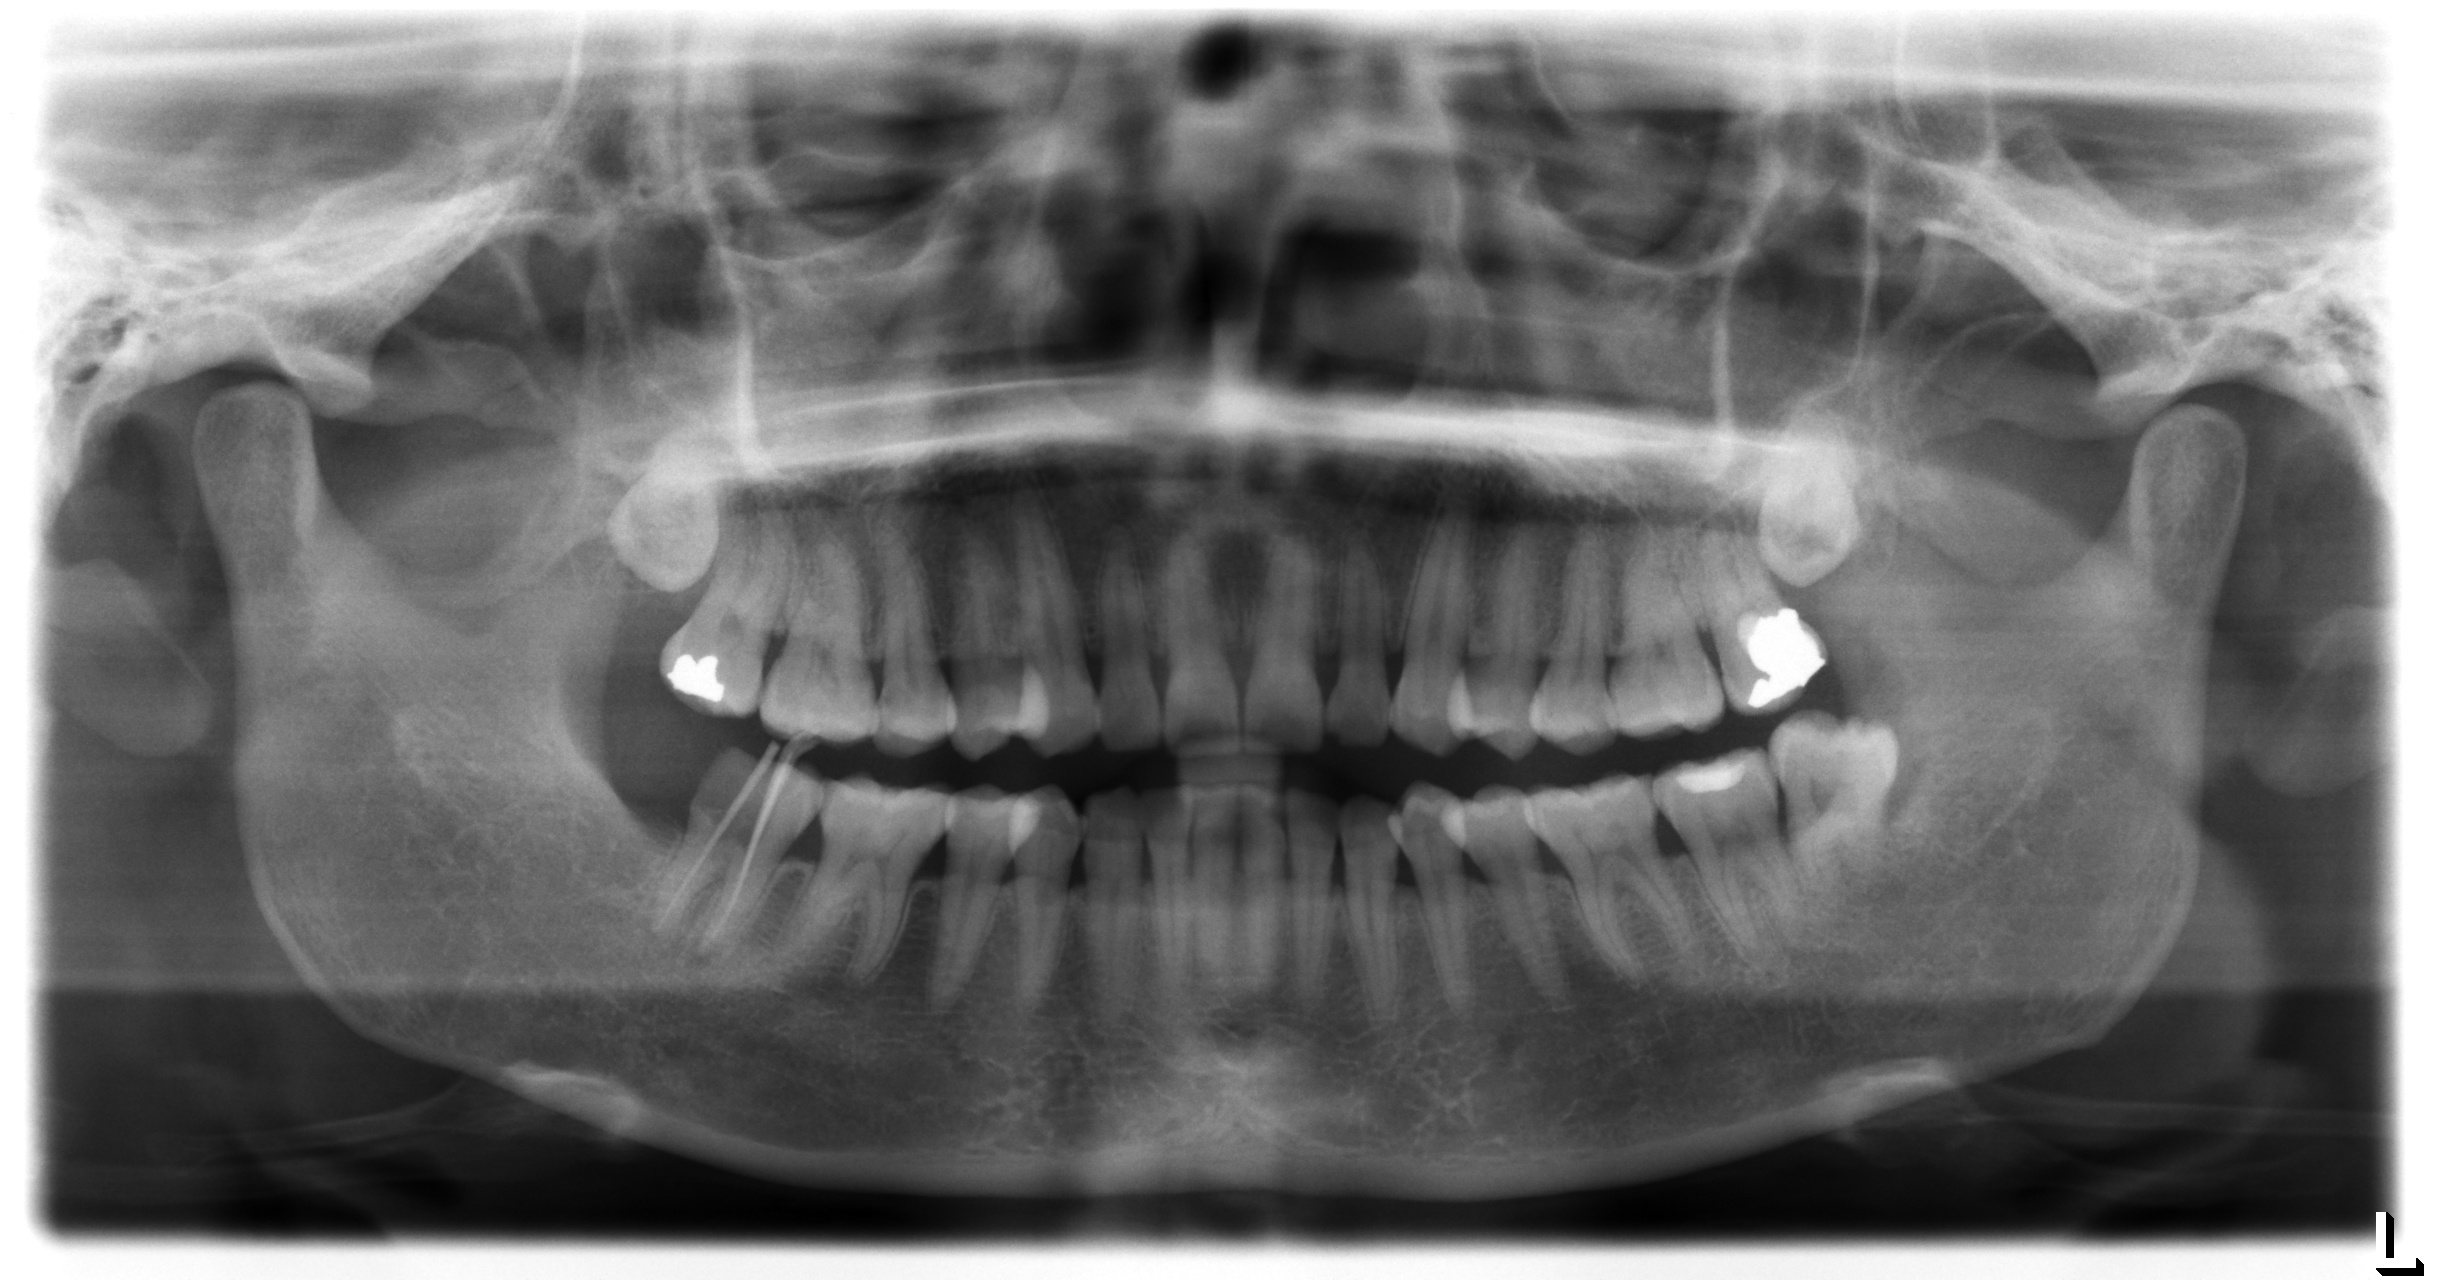Decay: (692, 749, 776, 831)
